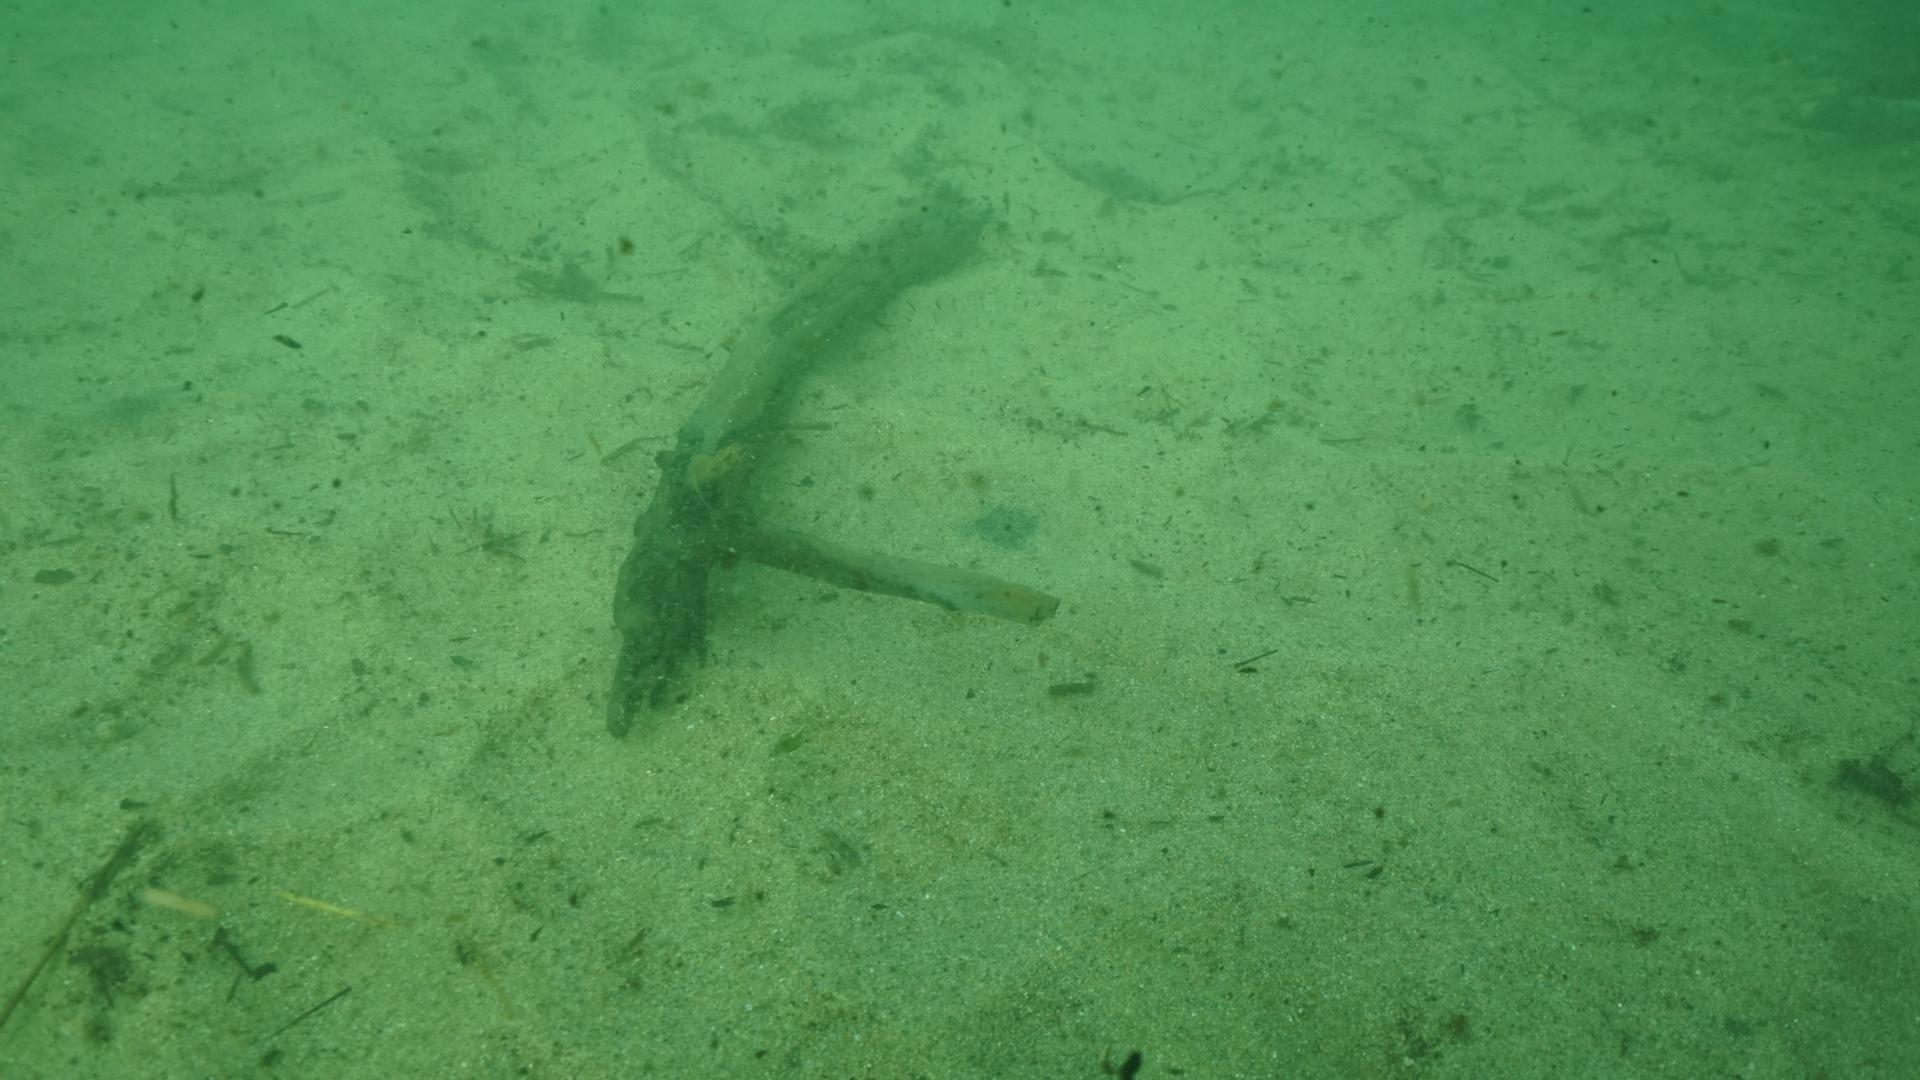wood: (603, 183, 1060, 741)
